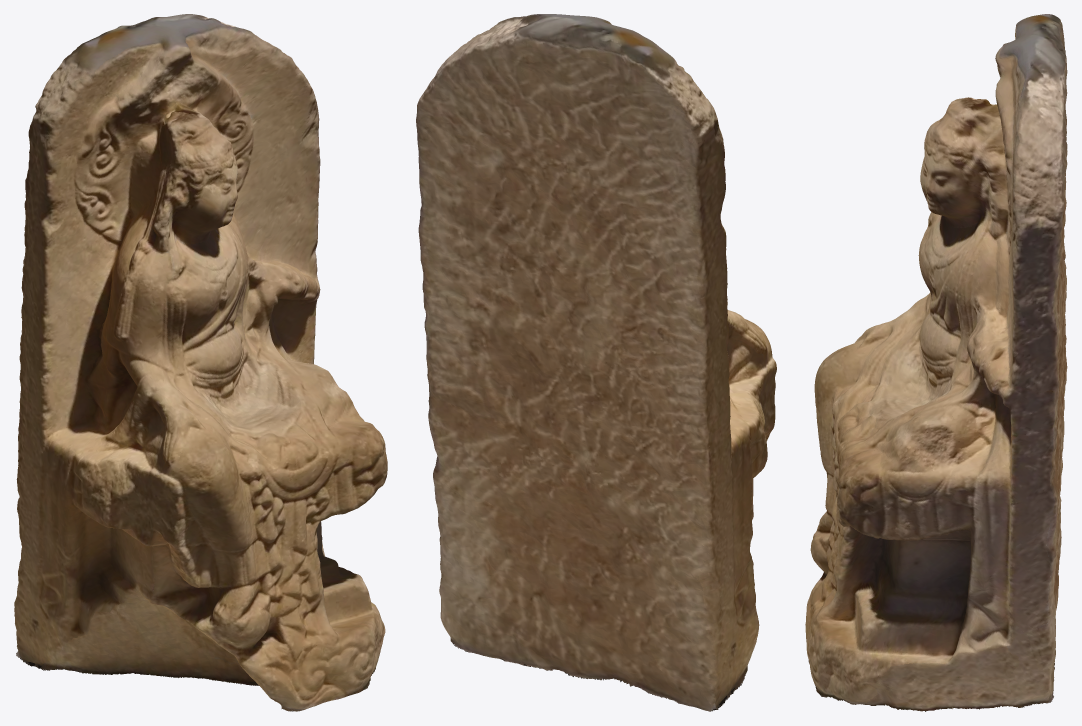
The model's file is preview.glb.
3 views of the same model, side by side, from view 1: azimuth 30°, elevation 25°; view 2: azimuth 150°, elevation 25°; view 3: azimuth 270°, elevation 25° (orthographic). The views are drawn at different scales.
Visible parts, largest first — view 1: Object_2; view 2: Object_2; view 3: Object_2.
Part boxes in pixels (left/top/right/bottom): Object_2: left=14, top=14, right=387, bottom=711; Object_2: left=416, top=14, right=776, bottom=711; Object_2: left=805, top=14, right=1067, bottom=711.
Bounding box in the file's own units: 8.95 × 18.24 × 7.09.
1 material, 1 textured.
